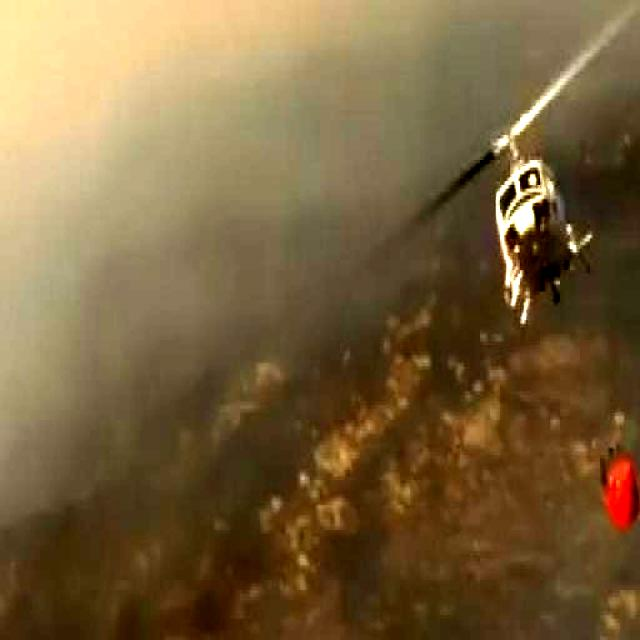drone: (358, 0, 640, 331)
